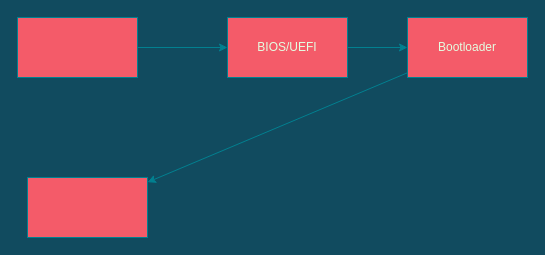
Some shapes in this 545 by 255 pixel diagram are drawn without their labels. The centre of each missing label's shape, as x and y in pixels:
"Allumage" belongs at (77,47).
"Kernel_main" belongs at (87,207).
